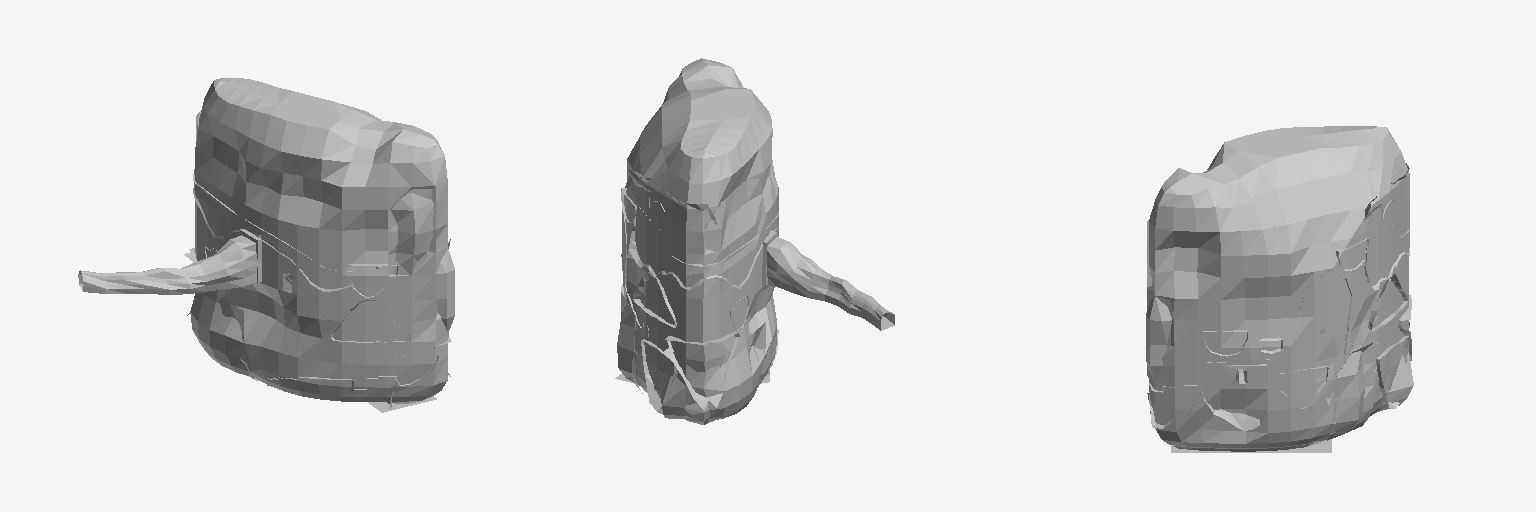
The model's file is Ice Cap 2.obj.
The picture shows the model from 3 angles: view 1: azimuth 30°, elevation 25°; view 2: azimuth 150°, elevation 25°; view 3: azimuth 270°, elevation 25°; orthographic projection.
Visible parts, largest first — view 1: object_[number redacted], object_[number redacted]C, object_[number redacted]C, object_0097AA7C, object_0097C894, object_0096CF4C, object_0096CB0C; view 2: object_[number redacted], object_[number redacted]C, object_0097AA7C, object_[number redacted]C, object_0097C894, object_0096D71C, object_0096CB0C, object_0093AE44, object_[number redacted], object_[number redacted]; view 3: object_[number redacted], object_[number redacted]C, object_0097AA7C, object_[number redacted]C, object_0096C744, object_0096CF4C, object_009625F4.
Boxes of the visible parts, box(x1,y1,x2,y2) form: object_[number redacted]: box(195, 78, 447, 210); object_[number redacted]C: box(190, 278, 447, 401); object_[number redacted]C: box(195, 150, 454, 275); object_0097AA7C: box(195, 211, 454, 342); object_0097C894: box(78, 235, 256, 294); object_0096CF4C: box(388, 186, 450, 340); object_0096CB0C: box(194, 124, 245, 228); object_[number redacted]: box(627, 58, 772, 231); object_[number redacted]C: box(622, 159, 778, 299); object_0097AA7C: box(620, 245, 774, 367); object_[number redacted]C: box(617, 293, 776, 420); object_0097C894: box(767, 237, 894, 330); object_0096D71C: box(657, 322, 765, 424); object_0096CB0C: box(704, 171, 765, 277); object_0093AE44: box(664, 332, 739, 409); object_[number redacted]: box(627, 170, 716, 277); object_[number redacted]: box(641, 339, 677, 413); object_[number redacted]: box(1149, 126, 1409, 255); object_[number redacted]C: box(1146, 196, 1409, 321); object_0097AA7C: box(1146, 263, 1408, 388); object_[number redacted]C: box(1149, 346, 1413, 447); object_0096C744: box(1327, 342, 1374, 440); object_0096CF4C: box(1147, 220, 1173, 387); object_009625F4: box(1201, 359, 1328, 430).
Size of the model in its own units: 968 by 840 by 750.